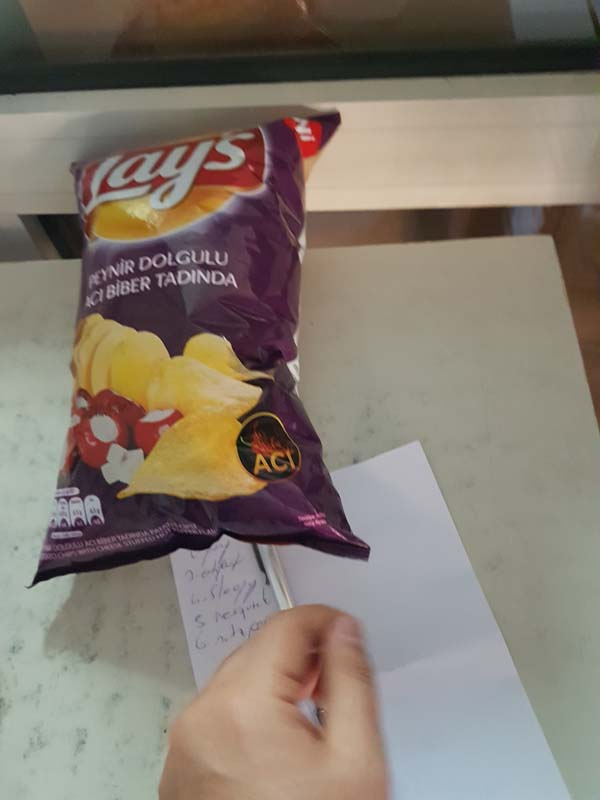layspeynirsoslu: (35, 115, 390, 580)
